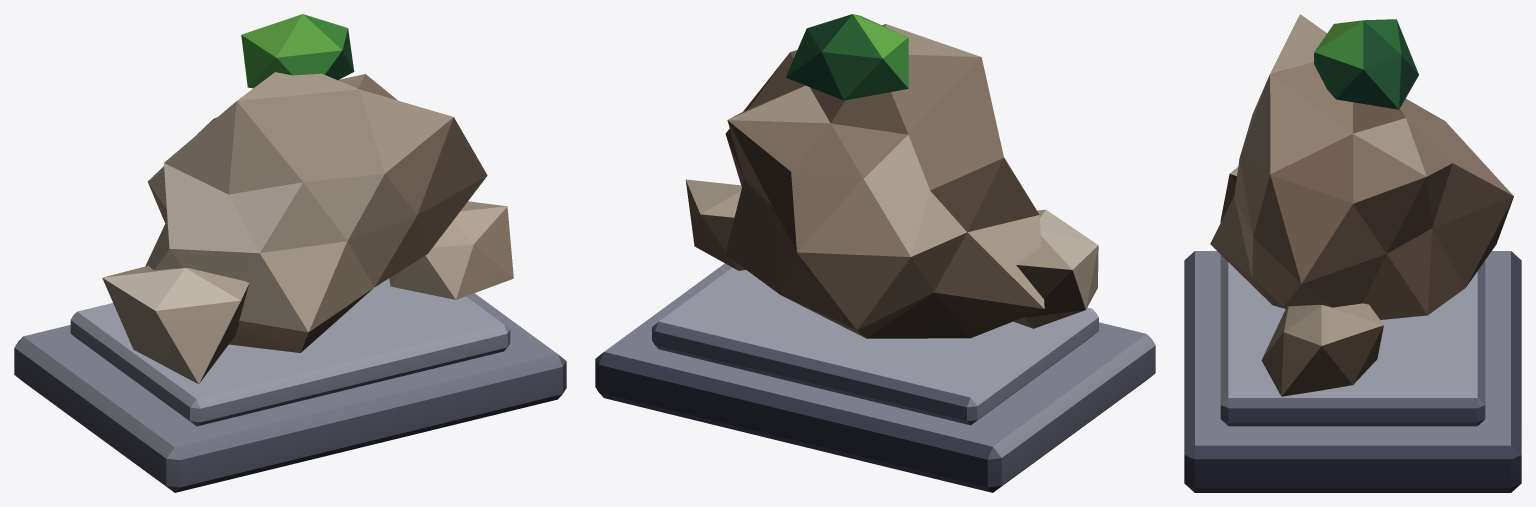
Rendered from gym_top_rock.glb.
The picture shows the model from 3 angles, left to right: view 1: azimuth 30°, elevation 25°; view 2: azimuth 150°, elevation 25°; view 3: azimuth 270°, elevation 25°; orthographic projection. The views are drawn at different scales.
Visible parts, largest first — view 1: gym_top_rock; view 2: gym_top_rock; view 3: gym_top_rock.
Boxes of the visible parts, x1=… form: gym_top_rock: x1=14, y1=14, x2=566, y2=492; gym_top_rock: x1=595, y1=14, x2=1155, y2=492; gym_top_rock: x1=1184, y1=14, x2=1521, y2=492.
Bounding box in the file's own units: 0.9242 × 0.81 × 0.644.
